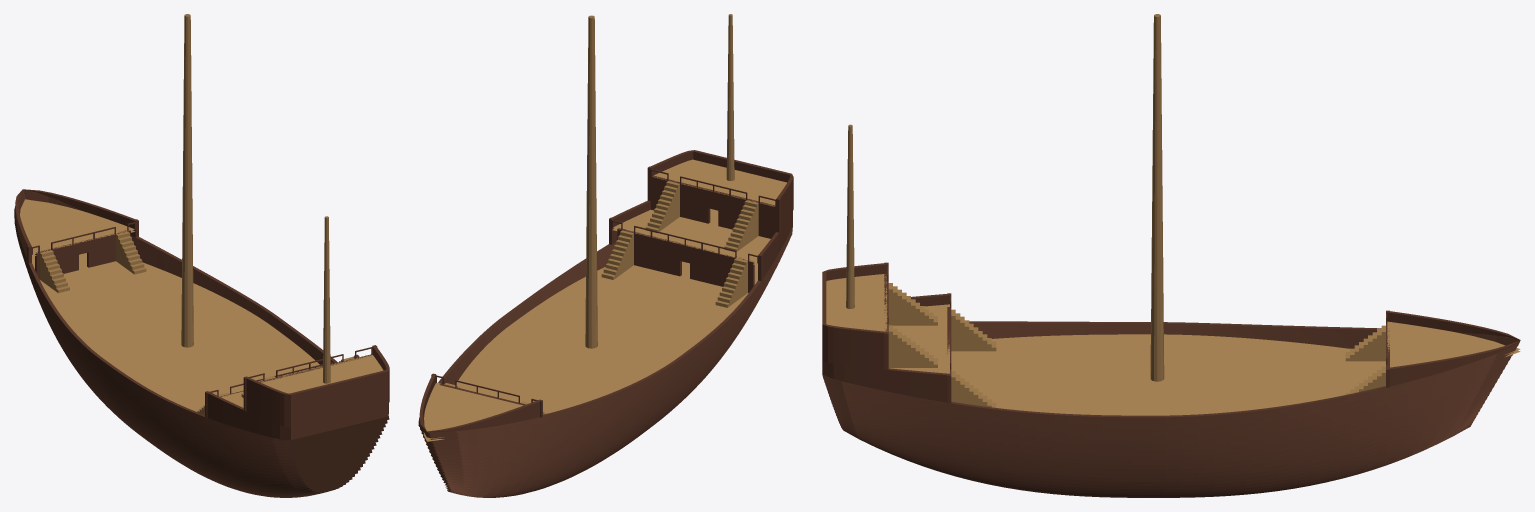
Rendered from hull.obj.
3 renders of one model, left to right at view 1: azimuth 30°, elevation 25°; view 2: azimuth 150°, elevation 25°; view 3: azimuth 270°, elevation 25°, orthographic. The views are drawn at different scales.
Parts seen in each view (by area): view 1: Hull; view 2: Hull; view 3: Hull.
Part boxes in pixels (bbox=[...]): Hull: bbox=[14, 14, 389, 497]; Hull: bbox=[418, 14, 793, 497]; Hull: bbox=[822, 14, 1520, 497].
Size of the model in its own units: 18.14 by 41.7 by 55.75.
